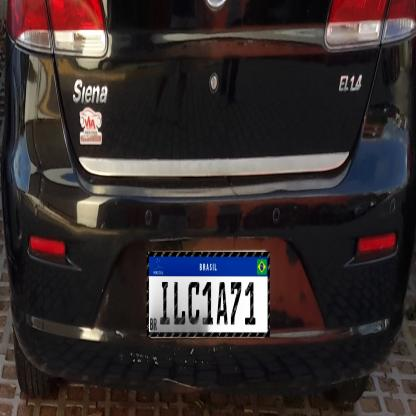PlacaM: (147, 252, 270, 337)
